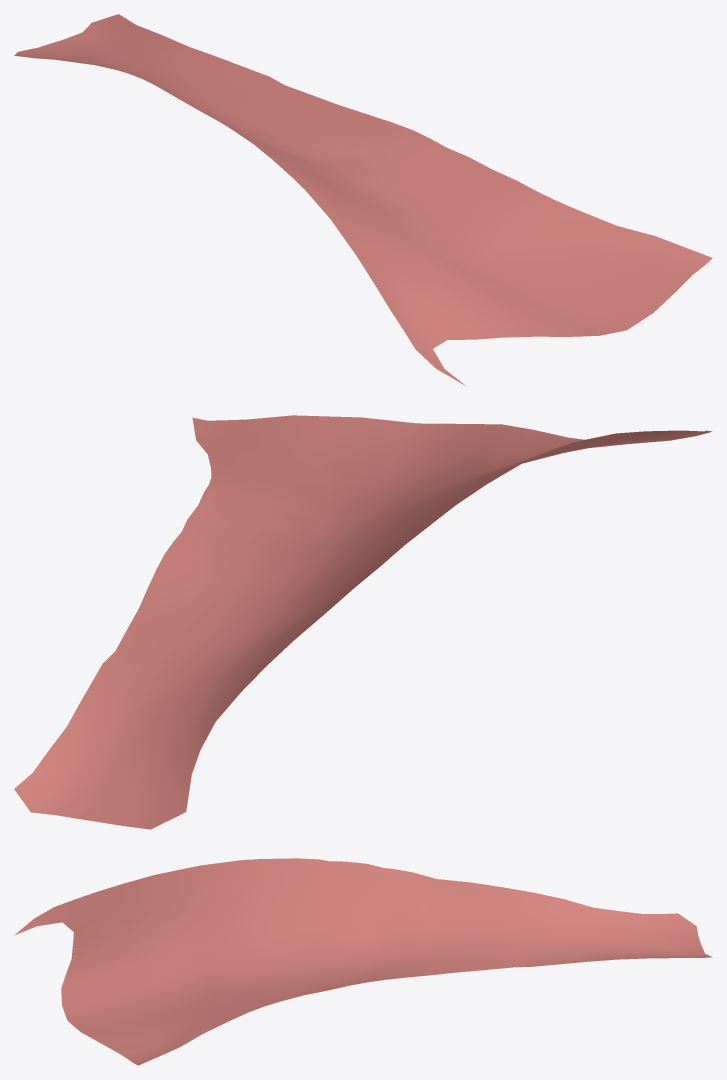
The picture shows the model from 3 angles, top to bottom: view 1: azimuth 30°, elevation 25°; view 2: azimuth 150°, elevation 25°; view 3: azimuth 270°, elevation 25°; orthographic projection. The views are drawn at different scales.
Visible parts, largest first — view 1: ZA_6ee77d44563fa959; view 2: ZA_6ee77d44563fa959; view 3: ZA_6ee77d44563fa959.
Part boxes in pixels (left/top/right/bottom): ZA_6ee77d44563fa959: left=14, top=14, right=712, bottom=385; ZA_6ee77d44563fa959: left=14, top=415, right=712, bottom=829; ZA_6ee77d44563fa959: left=14, top=858, right=712, bottom=1065.
Bounding box in the file's own units: 0.0637 × 0.0193 × 0.1428.
